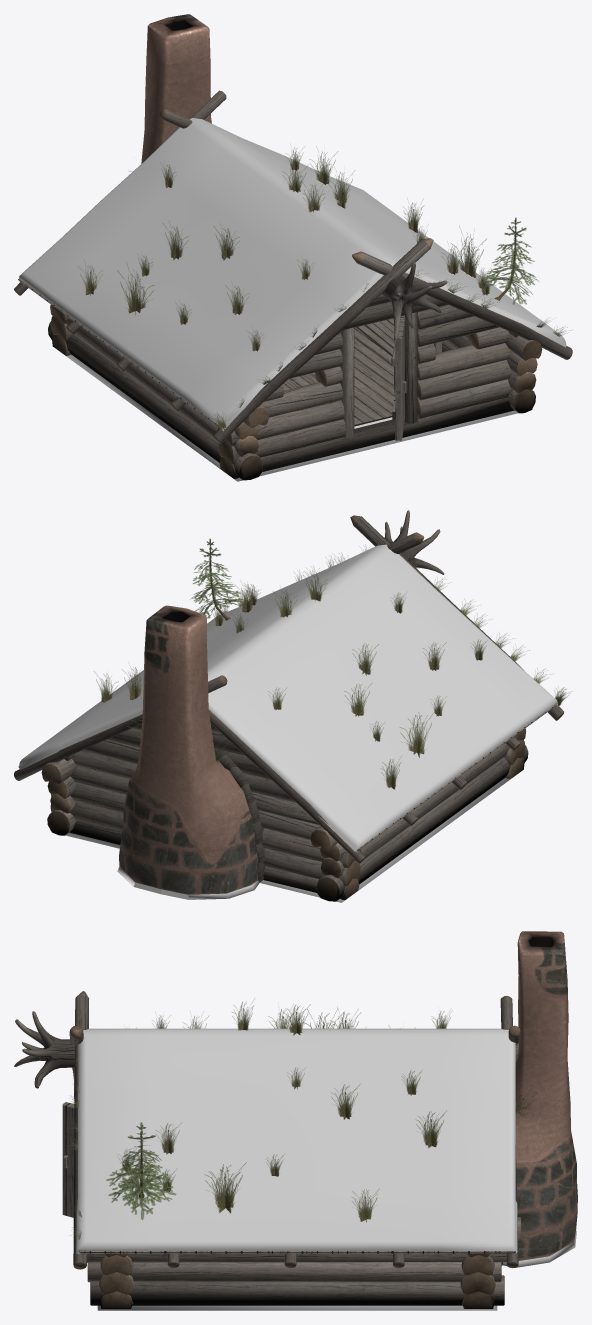
3 renders of one model, top to bottom at view 1: azimuth 30°, elevation 25°; view 2: azimuth 150°, elevation 25°; view 3: azimuth 270°, elevation 25°, orthographic. The views are drawn at different scales.
Parts seen in each view (by area): view 1: roof, wall1, balki, stove, wall3, Grass, floor, wall4, wall2, elka, bed1; view 2: roof, stove, wall4, wall3, Grass, balki, wall2, elka, ceiling, wall1; view 3: roof, wall2, stove, Grass, wall4, balki, elka, wall1, floor, ceiling.
Part boxes in pixels (bbox=[...]): roof: bbox=[19, 118, 566, 481]; wall1: bbox=[217, 294, 514, 478]; balki: bbox=[14, 90, 572, 443]; stove: bbox=[141, 14, 211, 163]; wall3: bbox=[48, 316, 268, 480]; Grass: bbox=[78, 147, 565, 431]; floor: bbox=[282, 315, 406, 440]; wall4: bbox=[50, 262, 447, 355]; wall2: bbox=[442, 331, 542, 413]; elka: bbox=[483, 217, 538, 304]; bed1: bbox=[356, 318, 441, 384]; roof: bbox=[19, 544, 557, 902]; stove: bbox=[119, 605, 258, 894]; wall4: bbox=[50, 510, 444, 900]; wall3: bbox=[310, 743, 528, 901]; Grass: bbox=[94, 544, 568, 789]; balki: bbox=[14, 515, 563, 863]; wall2: bbox=[41, 753, 77, 835]; elka: bbox=[190, 538, 243, 620]; ceiling: bbox=[18, 703, 557, 851]; wall1: bbox=[504, 728, 526, 778]; roof: bbox=[76, 1028, 576, 1310]; wall2: bbox=[87, 1217, 521, 1305]; stove: bbox=[515, 931, 577, 1260]; Grass: bbox=[66, 999, 537, 1239]; wall4: bbox=[14, 1011, 518, 1308]; balki: bbox=[69, 991, 520, 1269]; elka: bbox=[106, 1122, 176, 1219]; wall1: bbox=[99, 1253, 134, 1308]; floor: bbox=[62, 1102, 74, 1217]; ceiling: bbox=[79, 1043, 516, 1253].
Bounding box in the file's own units: 6.76 × 4.73 × 8.28.
